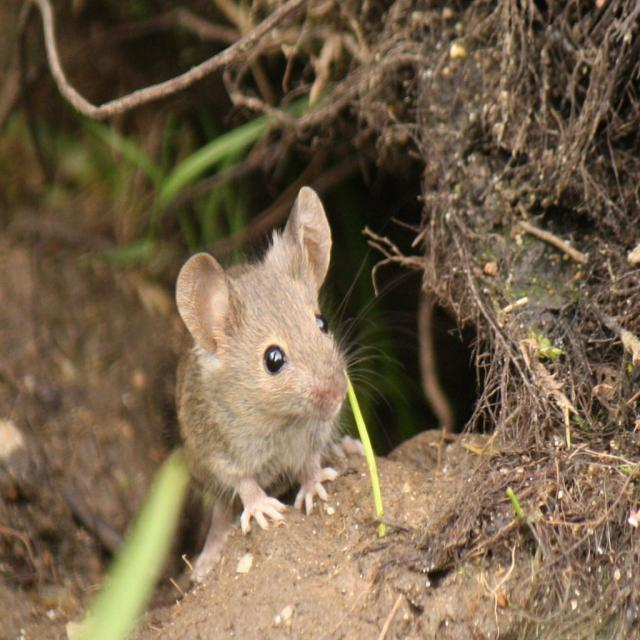rat: (172, 183, 412, 534)
